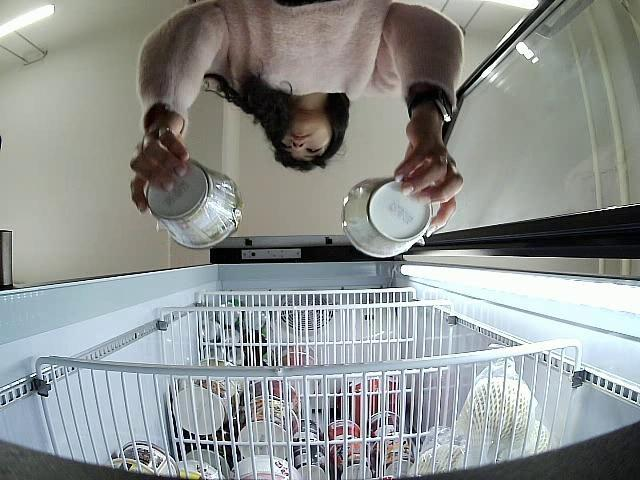04_chapagetti_S: (148, 161, 241, 250), (342, 176, 431, 260)
